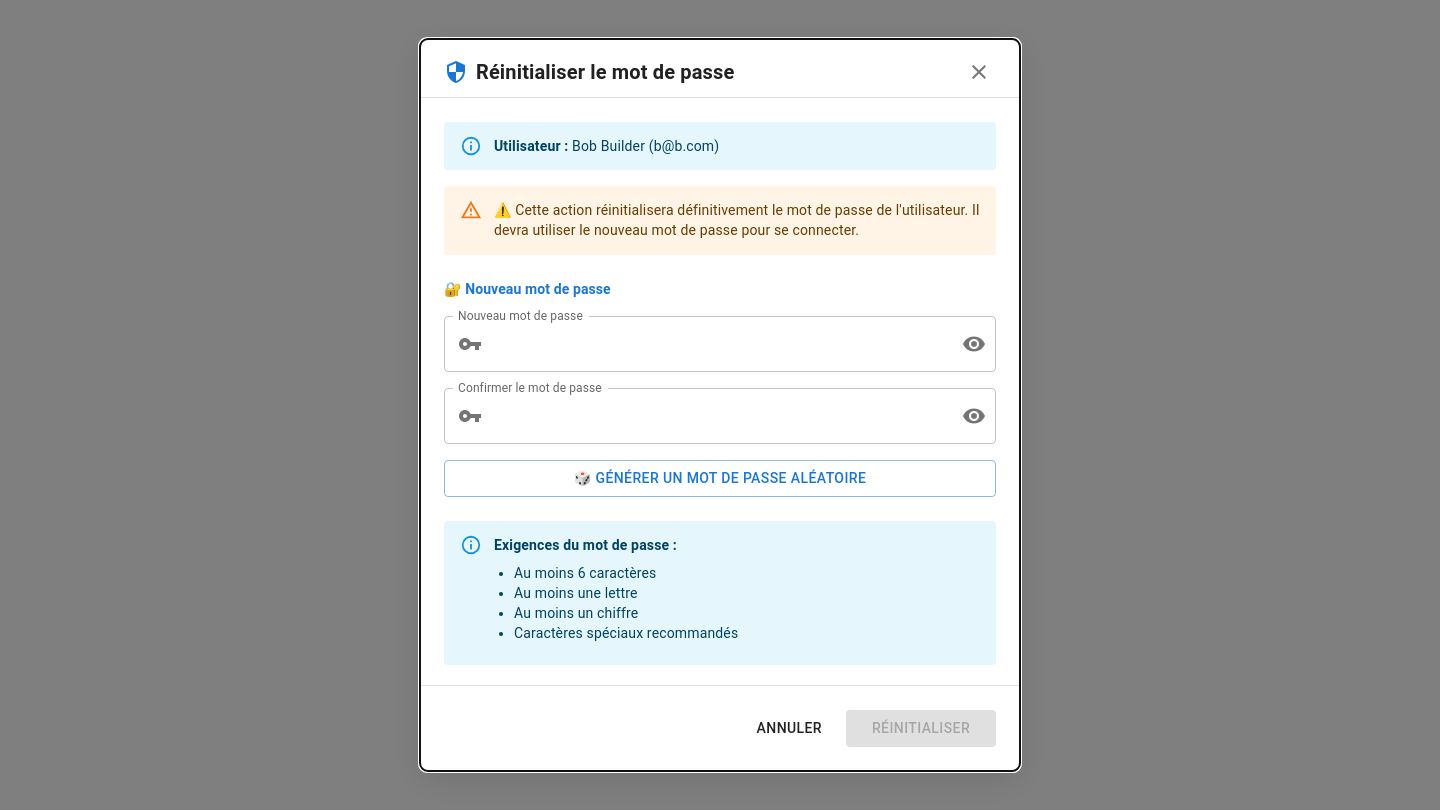
it: PasswordResetDialog — random password helper › clicking "Générer un mot de passe aléatoire" fills both fields and enables submit
Step 1. Click the button "🎲 Générer un mot de passe aléatoire" → [720, 479], box [444, 460, 996, 497]
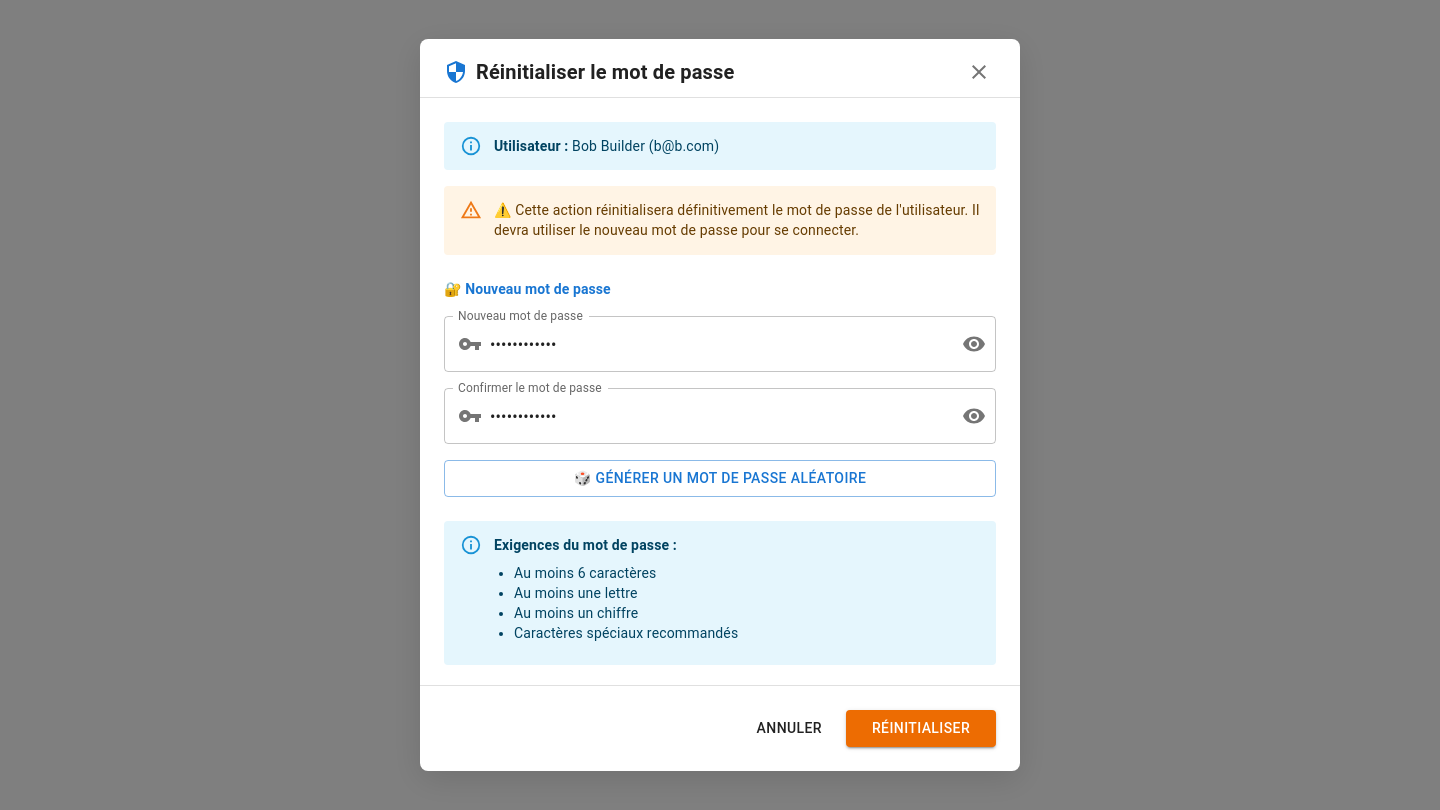
Now the button "Réinitialiser" is enabled, box [846, 710, 996, 746]
